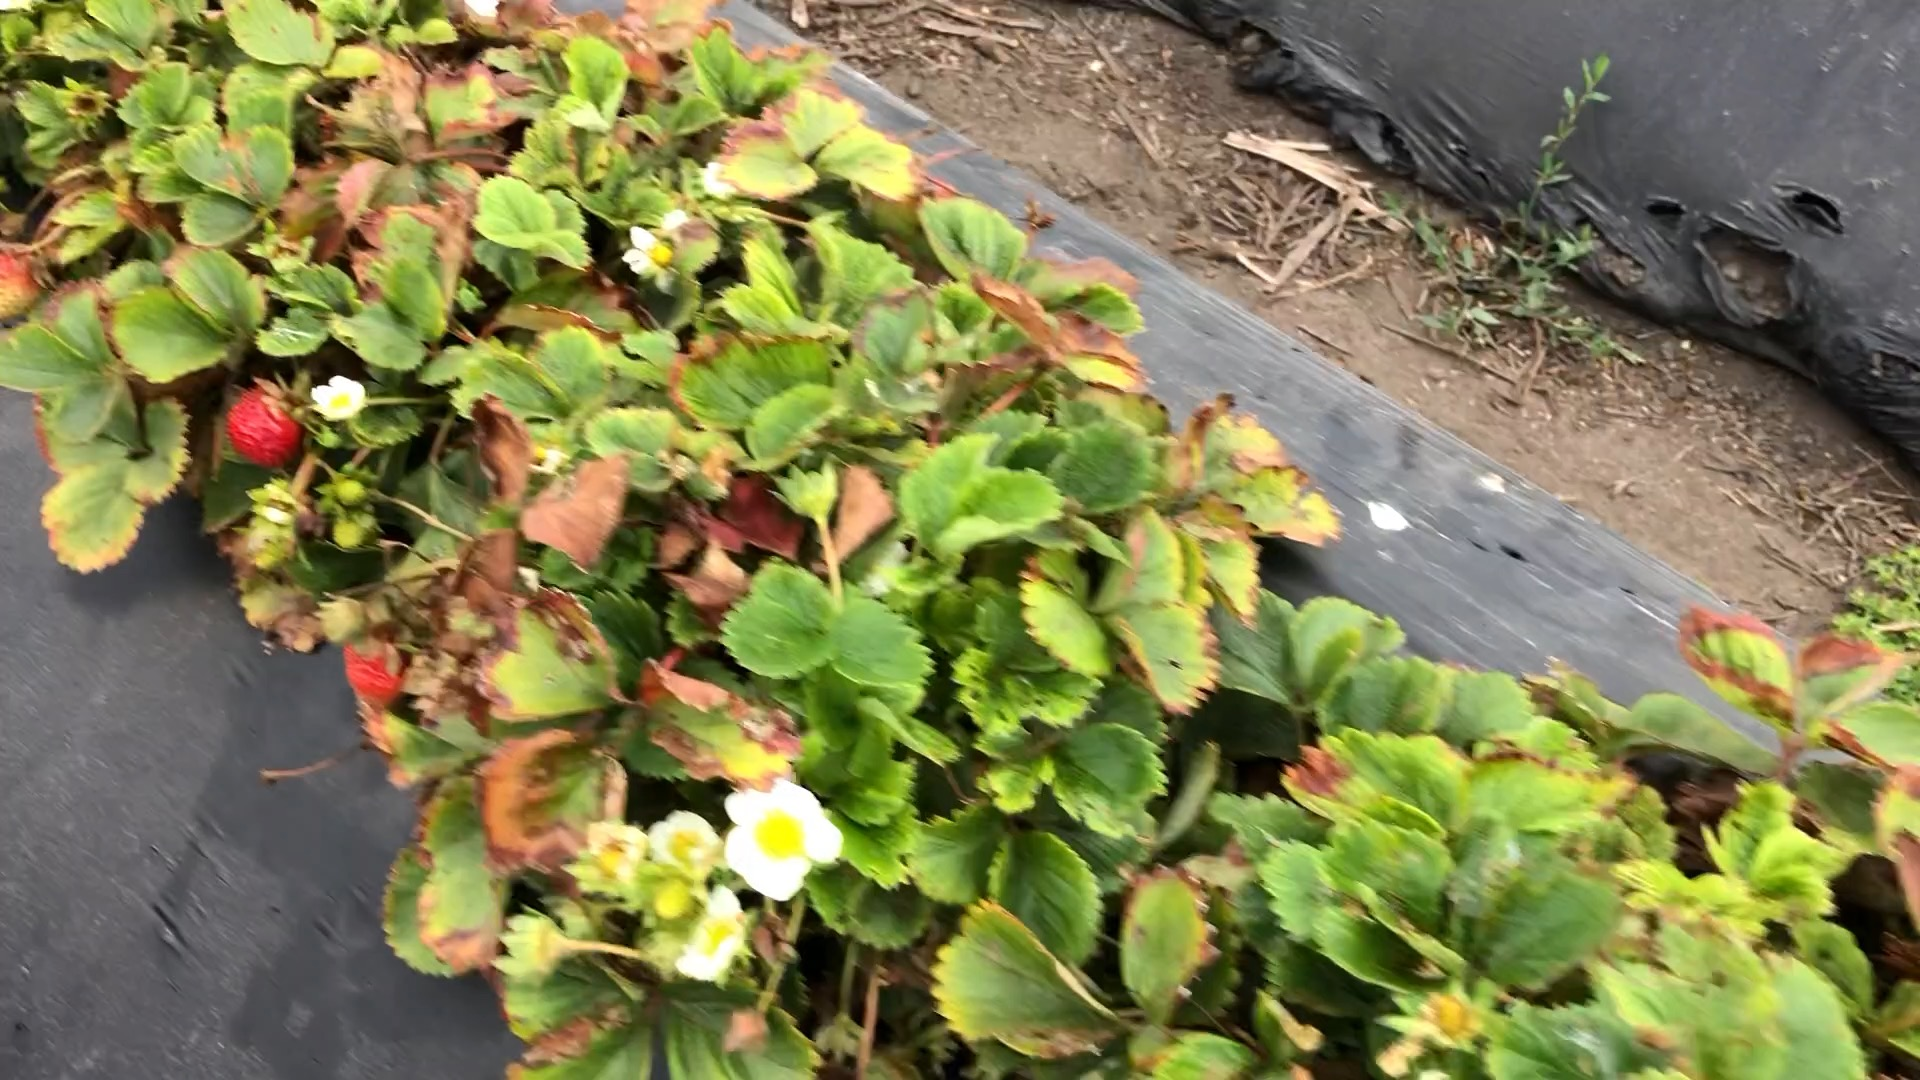ripe_strawberry: (222, 384, 310, 473)
unripe_strawberry: (1, 240, 49, 326), (324, 460, 371, 512), (328, 512, 375, 554)
